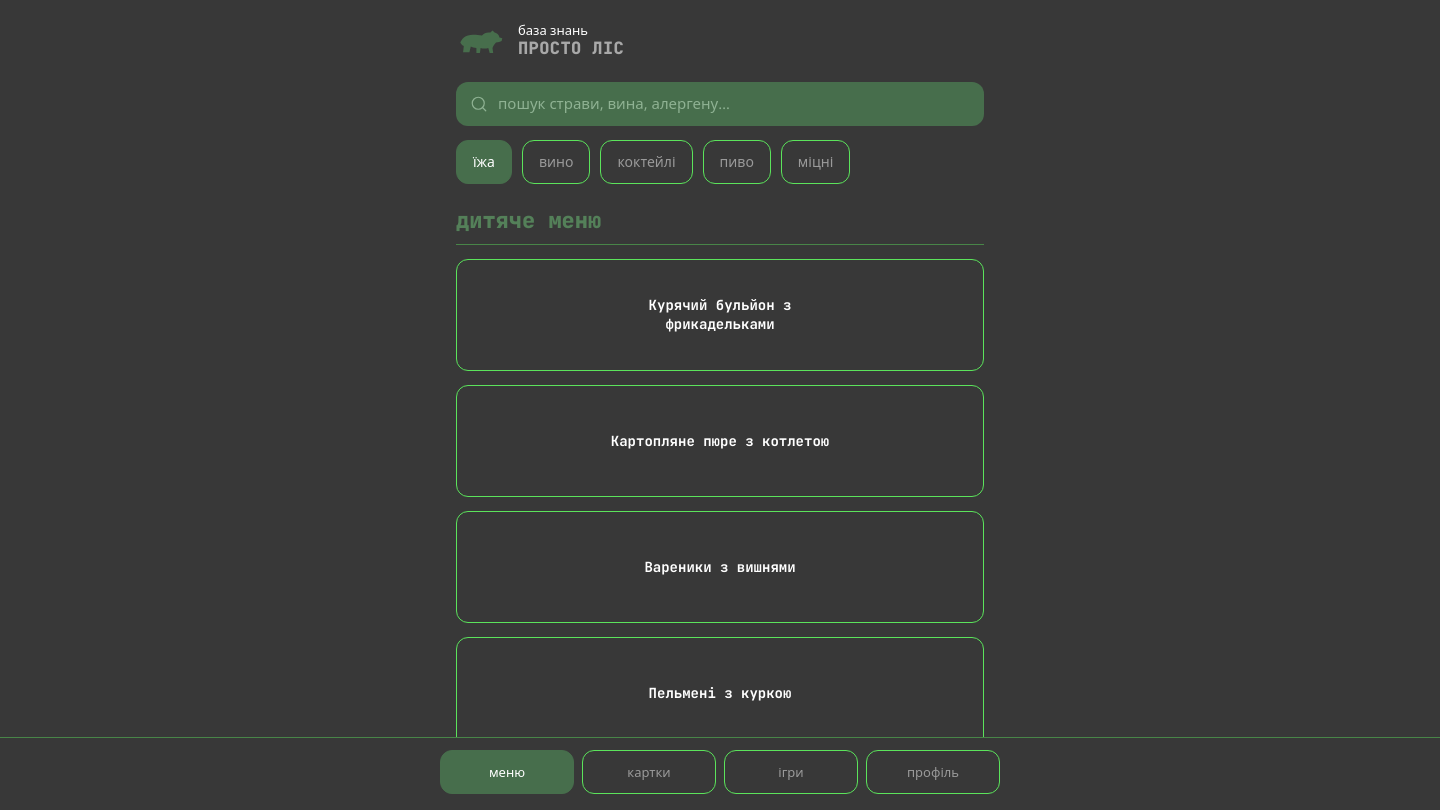
MenuListView (mobile) › searches across all categories, tags each result, and keeps the query in item links
Type "лактоза" into the search field.
click(734, 104); type("лактоза")  # box [498,82,970,125]
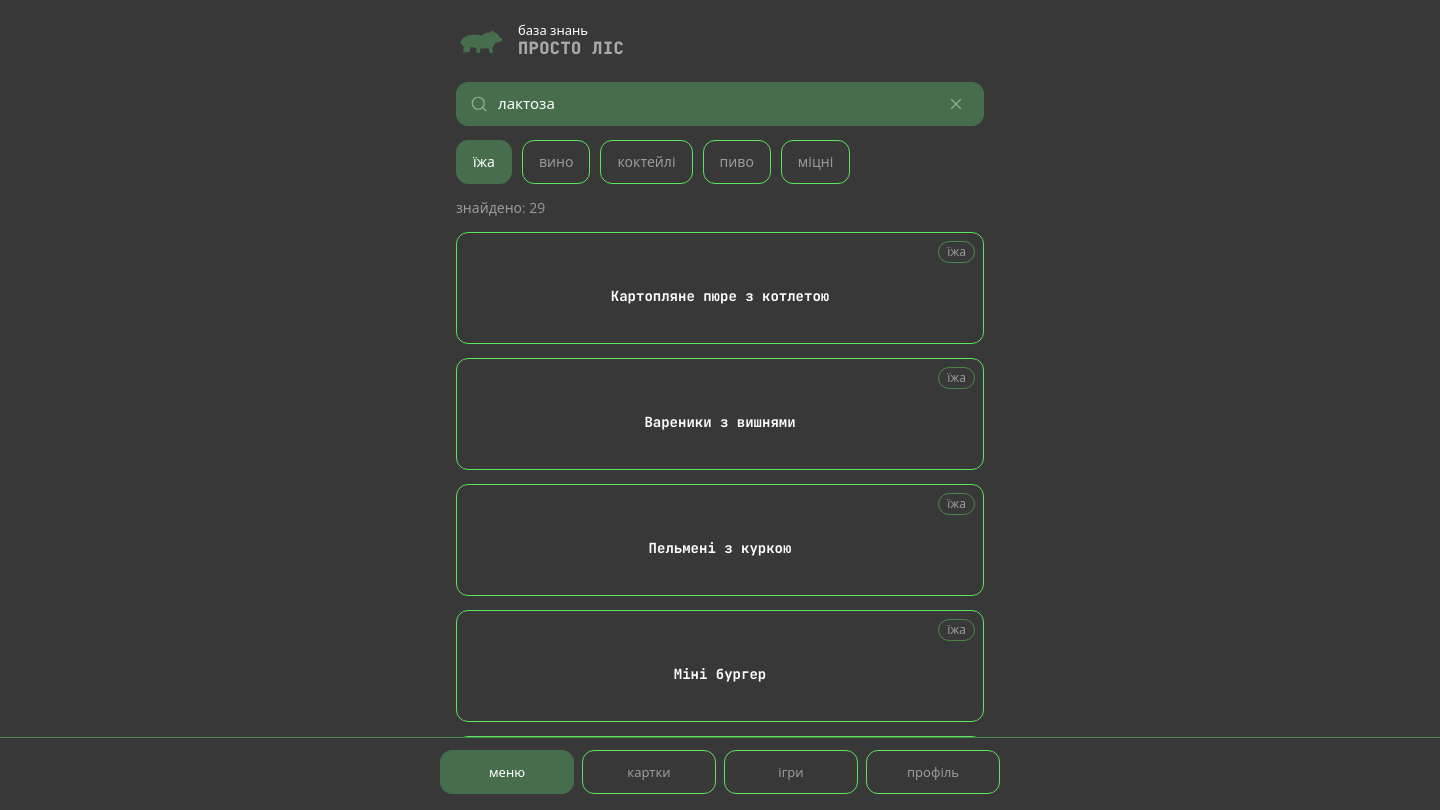
Result: the 1st text "їжа" is shown at [938,240,975,262]
